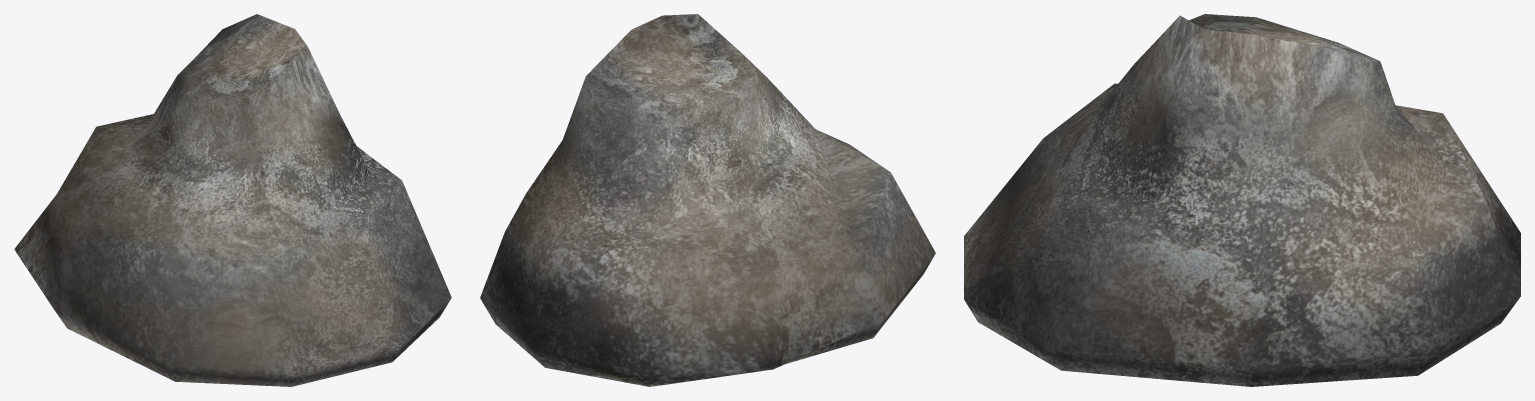
The model's file is Small Rock 3.FBX.
The picture shows the model from 3 angles, left to right: view 1: azimuth 30°, elevation 25°; view 2: azimuth 150°, elevation 25°; view 3: azimuth 270°, elevation 25°; orthographic projection. The views are drawn at different scales.
Visible parts, largest first — view 1: Small Rock 3; view 2: Small Rock 3; view 3: Small Rock 3.
Part boxes in pixels (left/top/right/bottom): Small Rock 3: left=14, top=14, right=451, bottom=386; Small Rock 3: left=480, top=14, right=935, bottom=386; Small Rock 3: left=964, top=14, right=1520, bottom=386.
Size of the model in its own units: 6 by 6.85 by 4.25.
